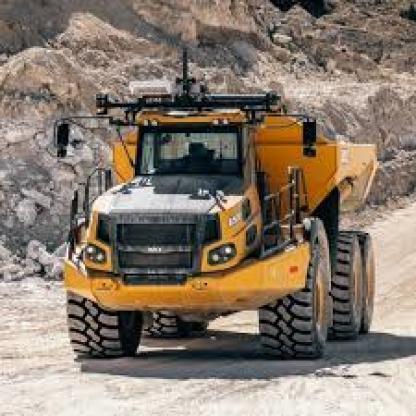dump_truck: (35, 80, 392, 362)
